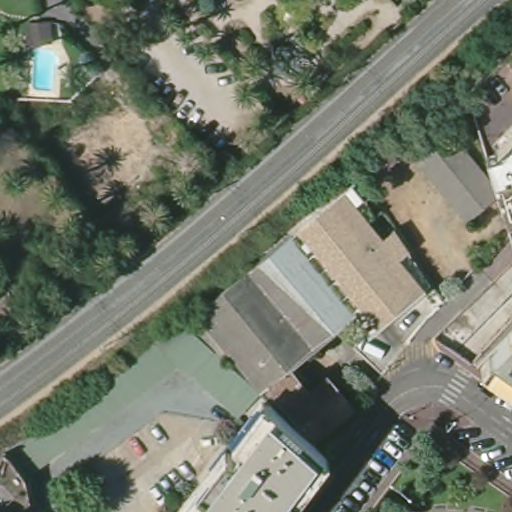pool: (29, 44, 62, 96)
